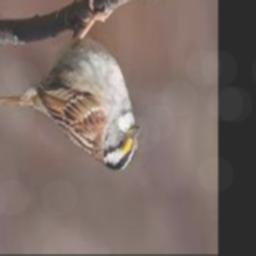Sparrow: (0, 0, 141, 171)
